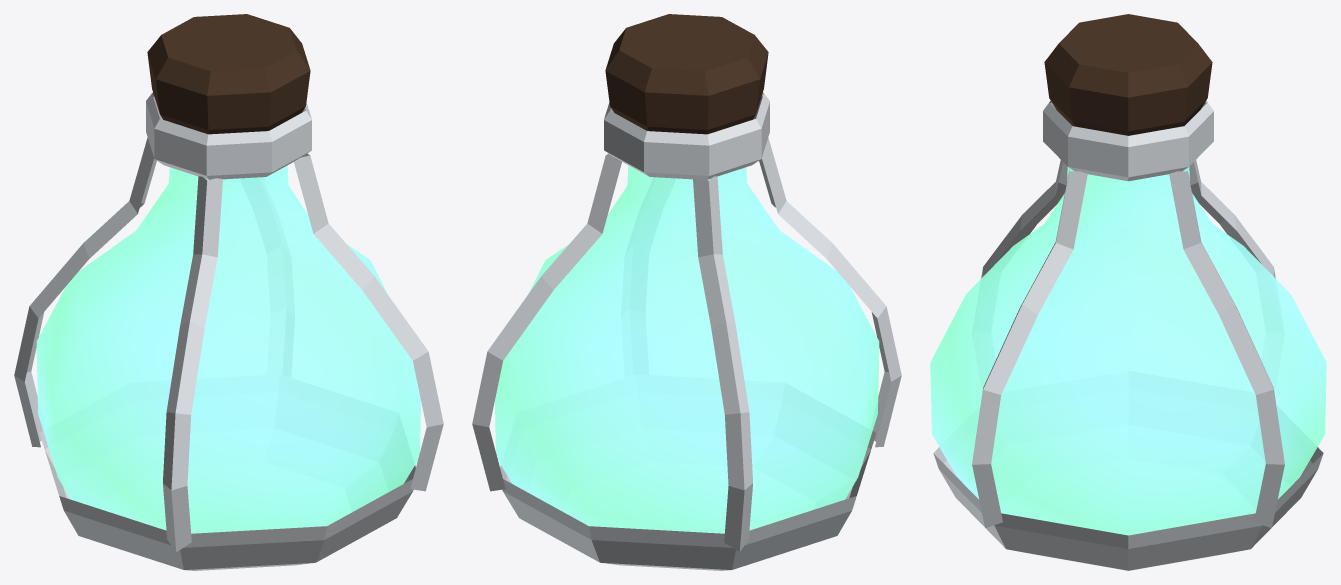
The model's file is vial.glb.
3 renders of one model, left to right at view 1: azimuth 30°, elevation 25°; view 2: azimuth 150°, elevation 25°; view 3: azimuth 270°, elevation 25°, orthographic.
Parts seen in each view (by area): view 1: VIAL; view 2: VIAL; view 3: VIAL.
Part boxes in pixels (x1=…): VIAL: x1=14, y1=14, x2=443, y2=570; VIAL: x1=472, y1=14, x2=901, y2=570; VIAL: x1=930, y1=14, x2=1326, y2=570.
Bounding box in the file's own units: 0.5 × 0.684 × 0.5.
